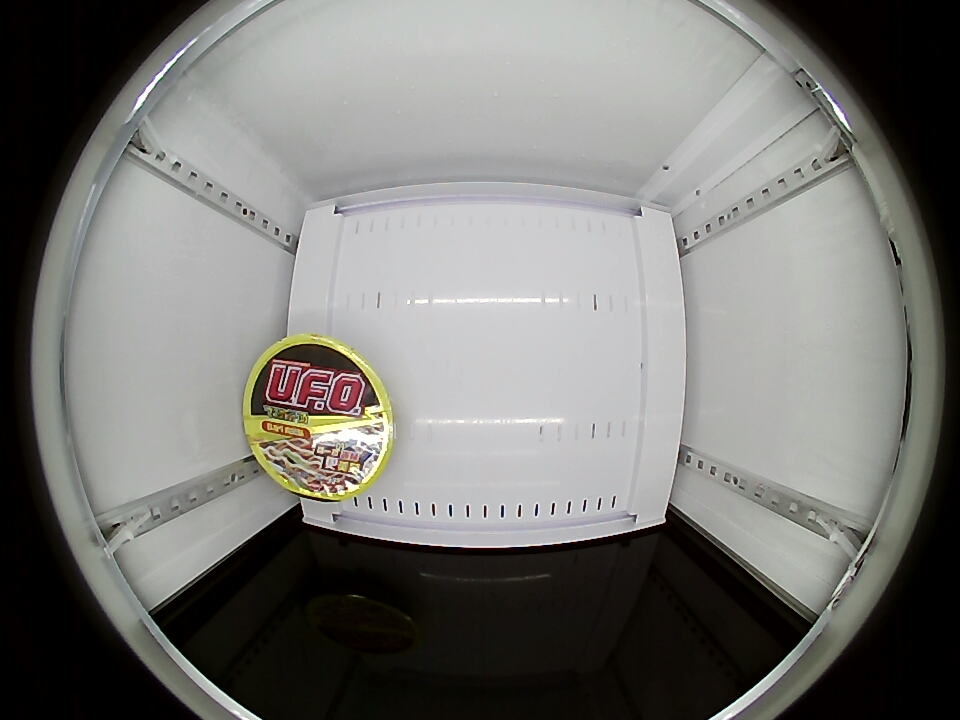ufo: (244, 335, 394, 501)
